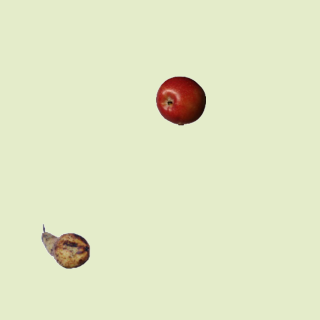Apple Braeburn: (155, 75, 205, 125)
Pear Abate: (40, 221, 90, 271)
